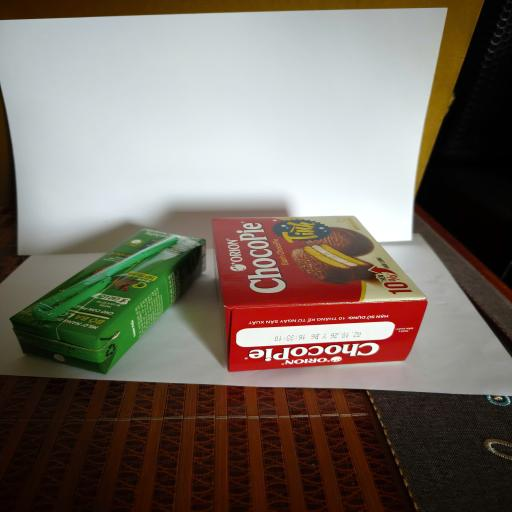chocopie: (211, 216, 427, 372)
milo: (9, 228, 206, 374)
